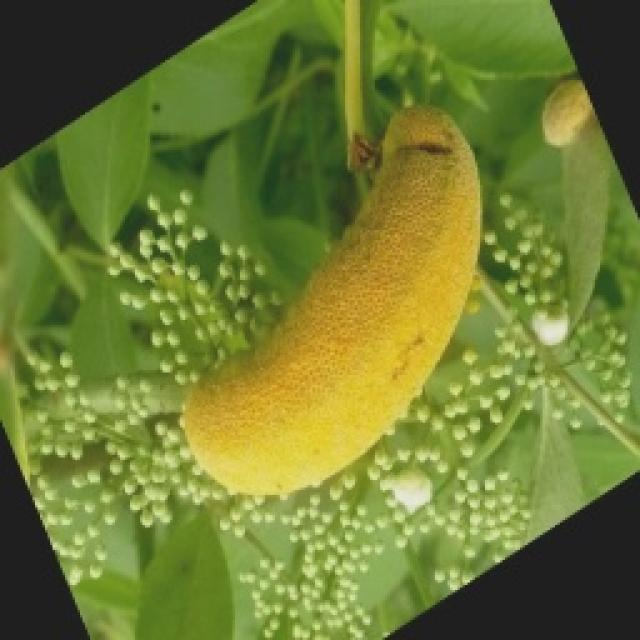Elderberry_rust: (175, 100, 483, 498)
